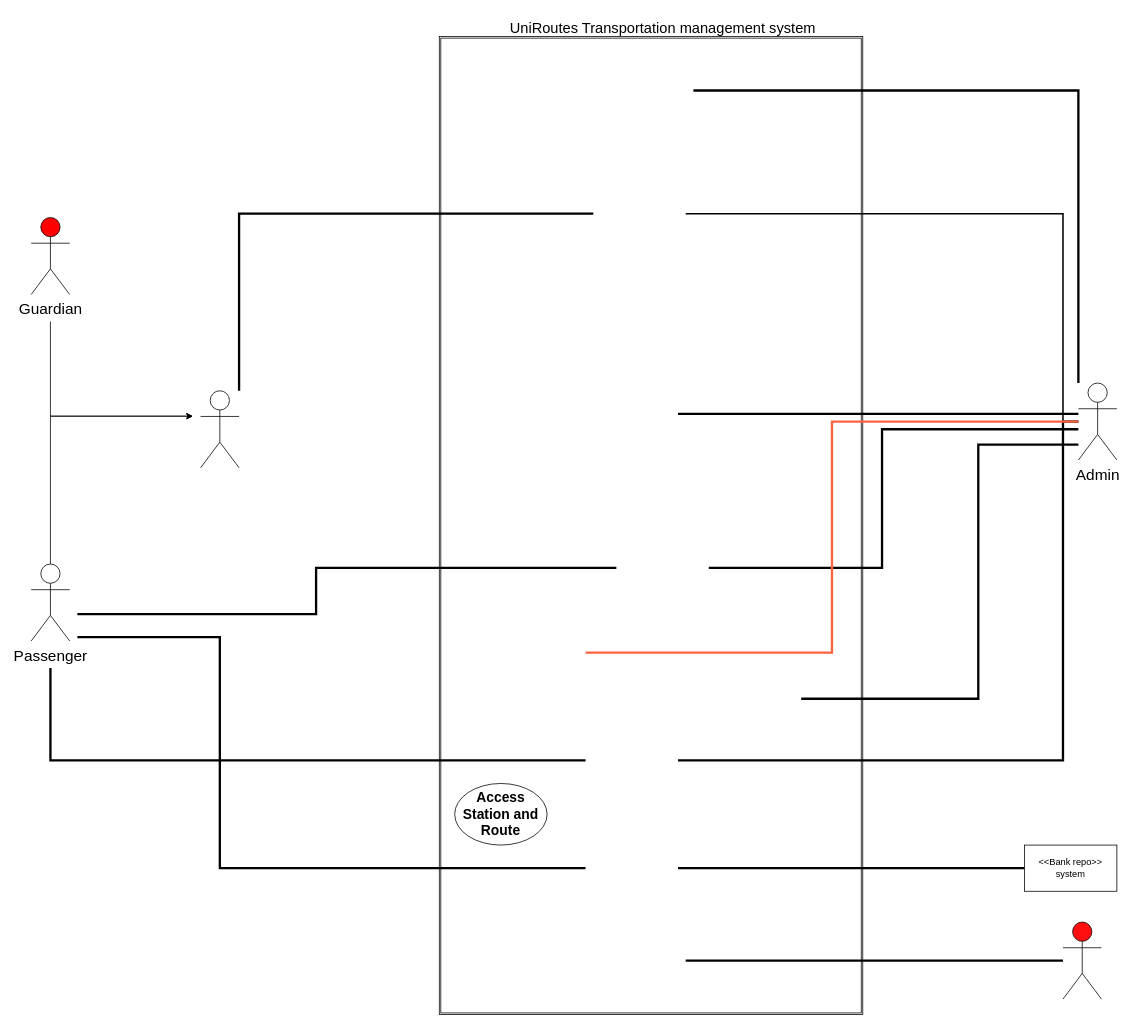
The diagram is 1133 pixels wide and 1036 high, and some of its shapes have lost their labels. Here are the shapes that lost their labels. From the top down, the centre of each, then its label:
At pixel 219 429: "User".
At pixel 1081 960: "Supervisor".
